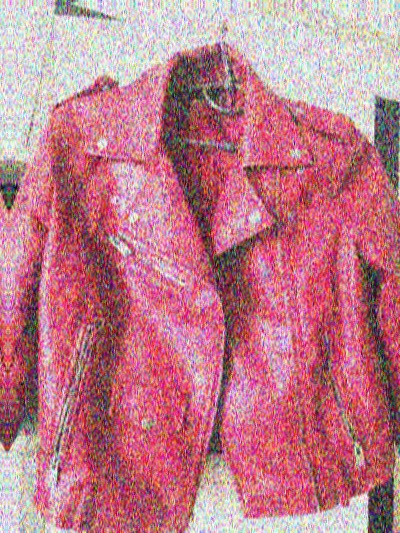Blazer: (6, 52, 400, 528), (0, 49, 10, 525)
